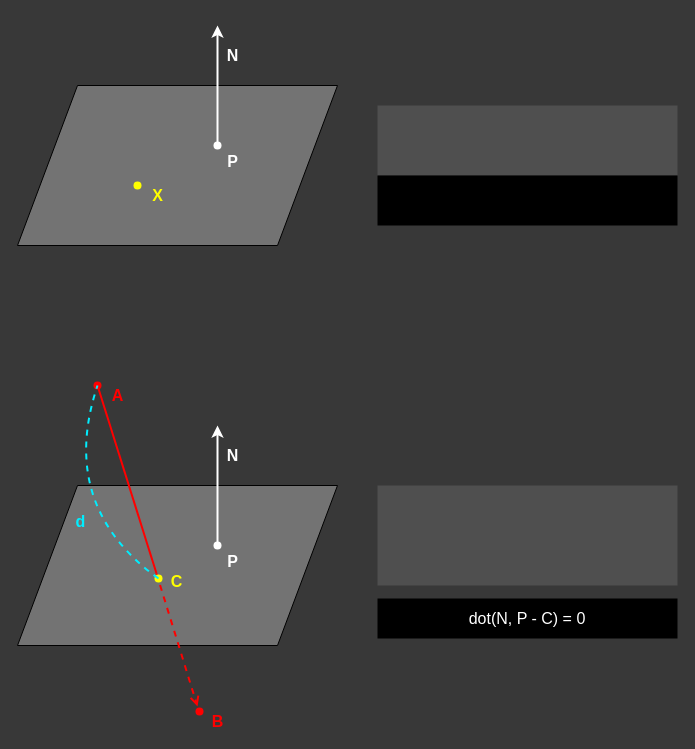
Image size: 695x749. Some labels were removed from this diagram. The centre of each missing label's shape, as x and y in pixels:
A : 광선의 시작 지점 B : 광선의 도착 지점 C : 광선과 평면이 만나는 지점 d : 선분 AC의 길이: [527,535]
N : 평면의 법선 방향 벡터 P : 좌표를 알고 있는 평면 상의 한 점 X : 평면 상의 임의의 점: [527,140]
Plane : dot(N, P - X) = 0: [527,200]
